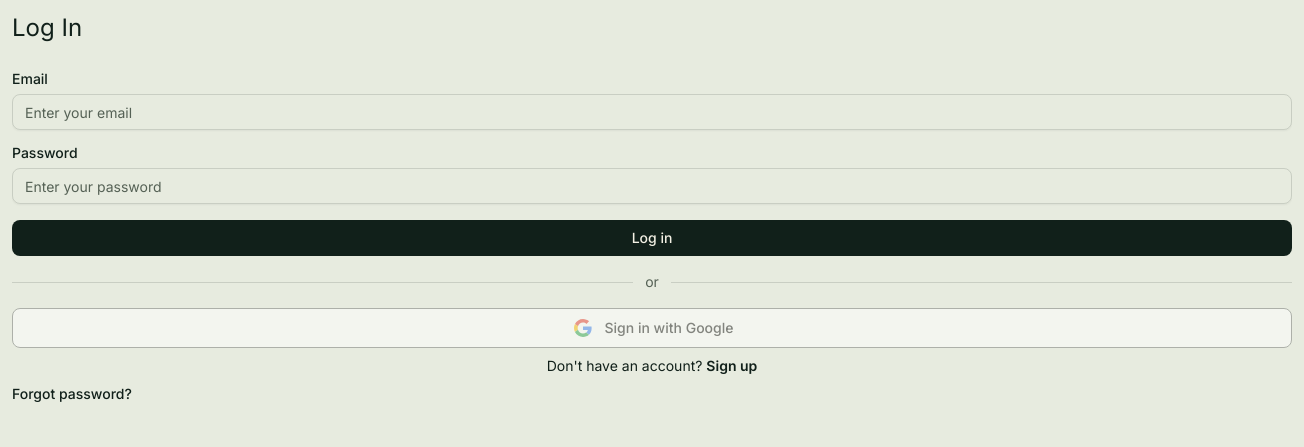
it: LoginForm › validation › shows error when password is too short
In the field labelled "Email": (652, 112) x1=12 y1=94 x2=1292 y2=130, type "valid@email.com"
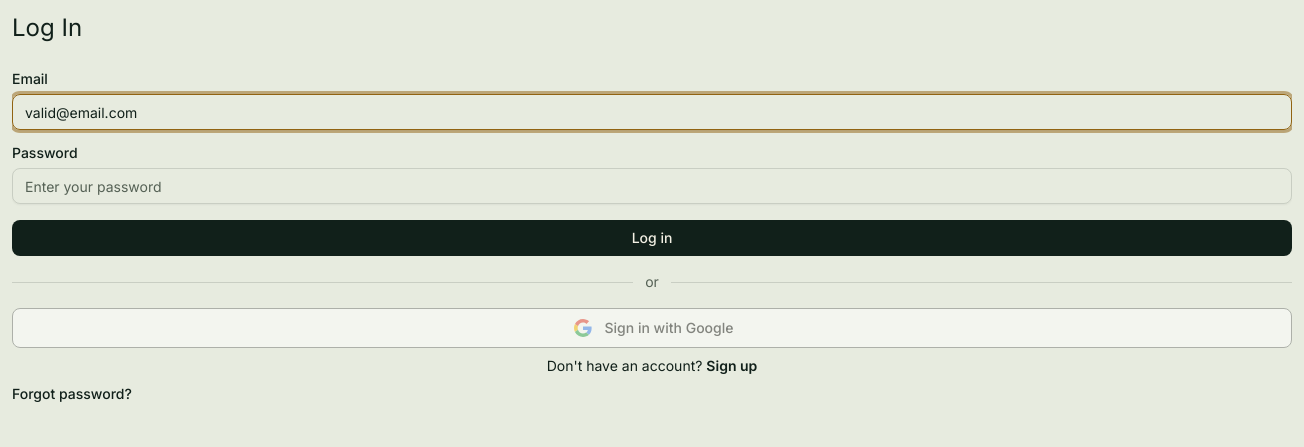
In the password field labelled "Password": (652, 186) x1=12 y1=168 x2=1292 y2=204, type "short"
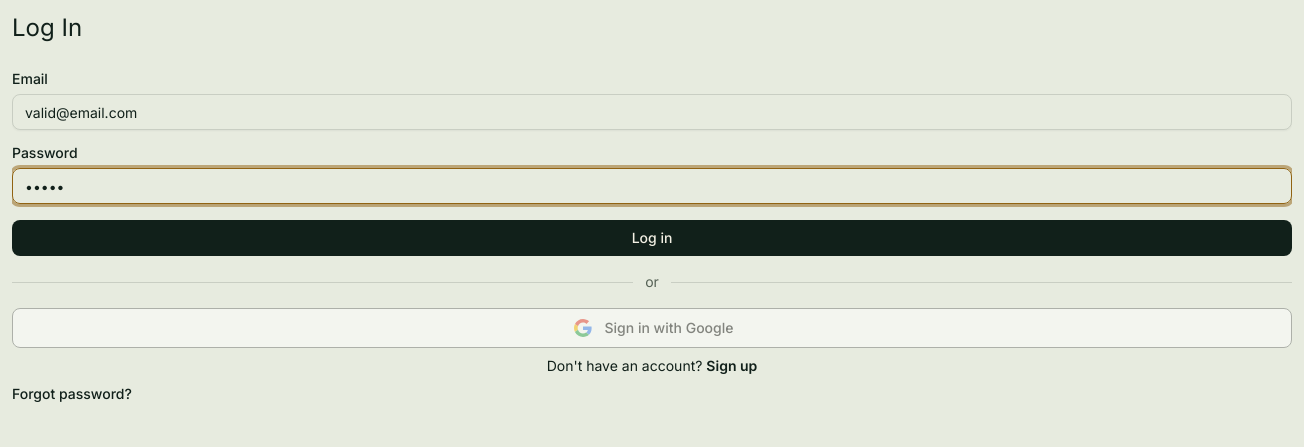
Click the button "Log in": (652, 238) x1=12 y1=220 x2=1292 y2=256
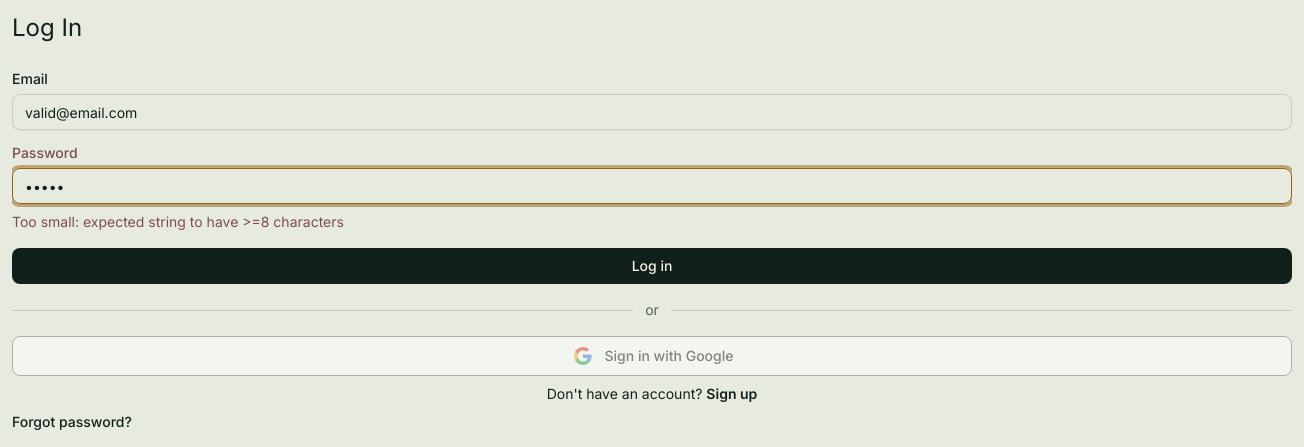
Check: the text "Too small: expected string to have >=8 characters" is shown, box x1=12 y1=213 x2=344 y2=230
